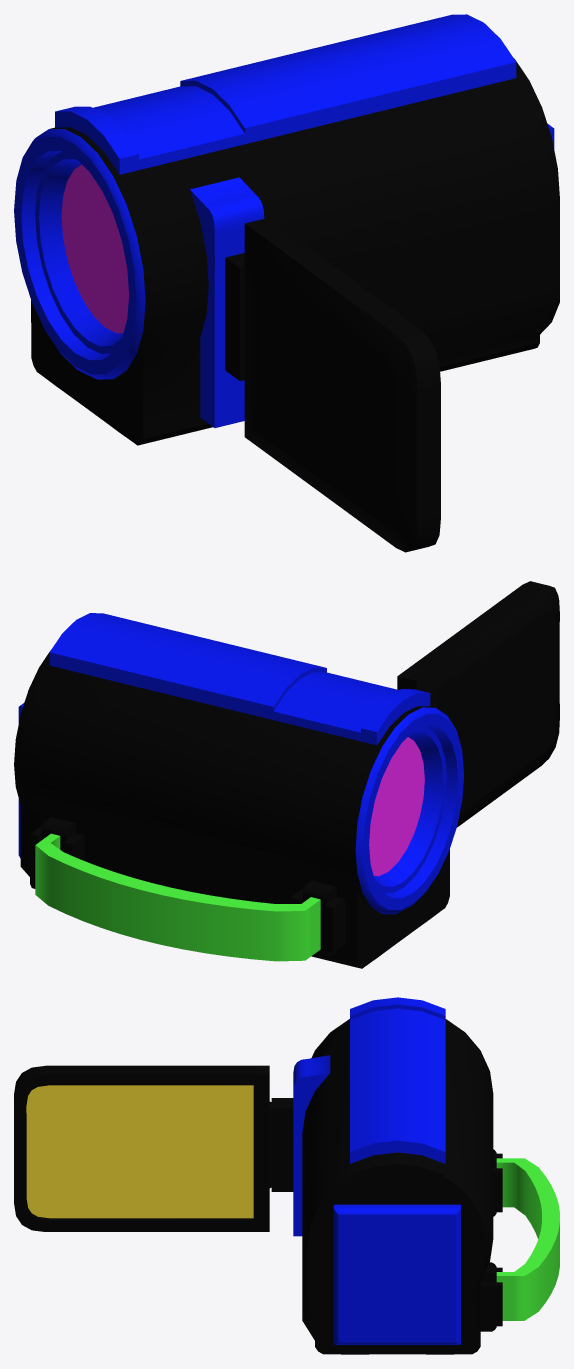
File: CAMARA.fbx
3 views of the same model, one above another, from view 1: azimuth 30°, elevation 25°; view 2: azimuth 150°, elevation 25°; view 3: azimuth 270°, elevation 25° (orthographic). The views are drawn at different scales.
Parts seen in each view (by area): view 1: Cylinder001; view 2: Cylinder001, Object003, Object002, Object001; view 3: Cylinder001, Object003, Object001, Object002.
Part boxes in pixels (x1=…): Cylinder001: x1=14, y1=14, x2=559, y2=552; Cylinder001: x1=14, y1=581, x2=559, y2=968; Object003: x1=35, y1=833, x2=320, y2=961; Object002: x1=290, y1=889, x2=345, y2=952; Object001: x1=30, y1=825, x2=84, y2=880; Cylinder001: x1=14, y1=997, x2=496, y2=1354; Object003: x1=496, y1=1158, x2=559, y2=1320; Object001: x1=480, y1=1267, x2=502, y2=1326; Object002: x1=493, y1=1153, x2=502, y2=1212.
Size of the model in its own units: 52.01 by 32.76 by 75.74.
